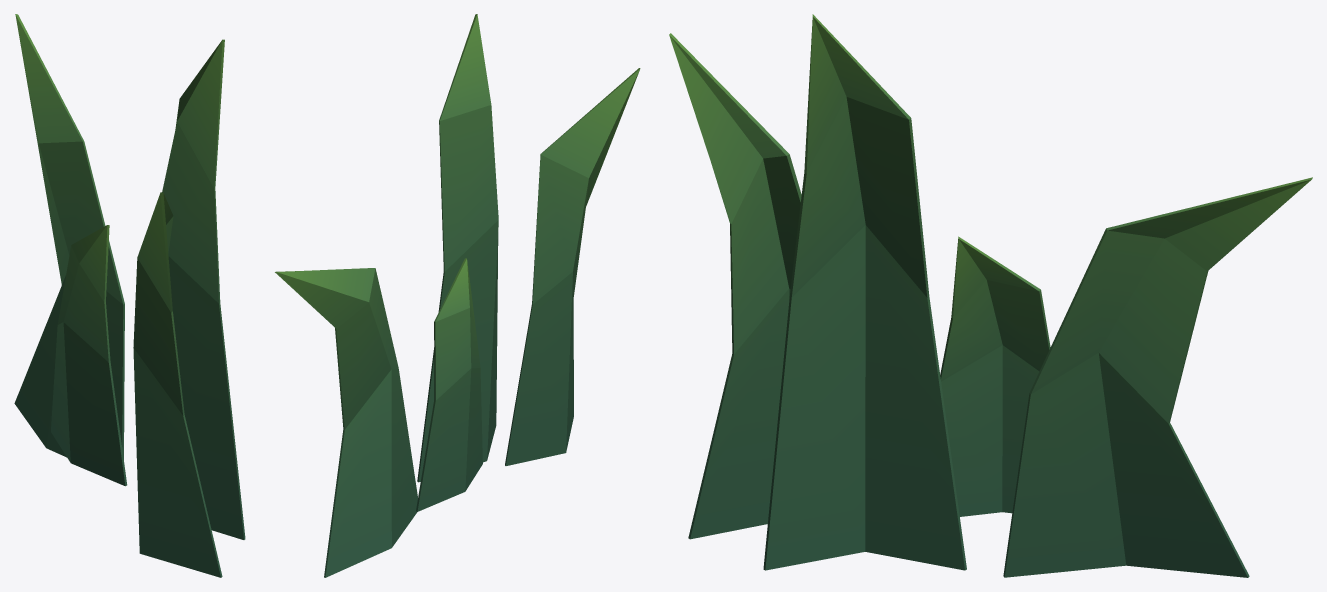
File: Grass-2-2.fbx
3 views of the same model, side by side, from view 1: azimuth 30°, elevation 25°; view 2: azimuth 150°, elevation 25°; view 3: azimuth 270°, elevation 25° (orthographic). The views are drawn at different scales.
Parts seen in each view (by area): view 1: Grass-2-2; view 2: Grass-2-2; view 3: Grass-2-2.
Boxes of the visible parts, x1,y1,x2,y2 form: Grass-2-2: (14, 14, 245, 577); Grass-2-2: (275, 14, 640, 577); Grass-2-2: (669, 14, 1312, 577).
Size of the model in its own units: 20.47 by 71.05 by 72.44.
